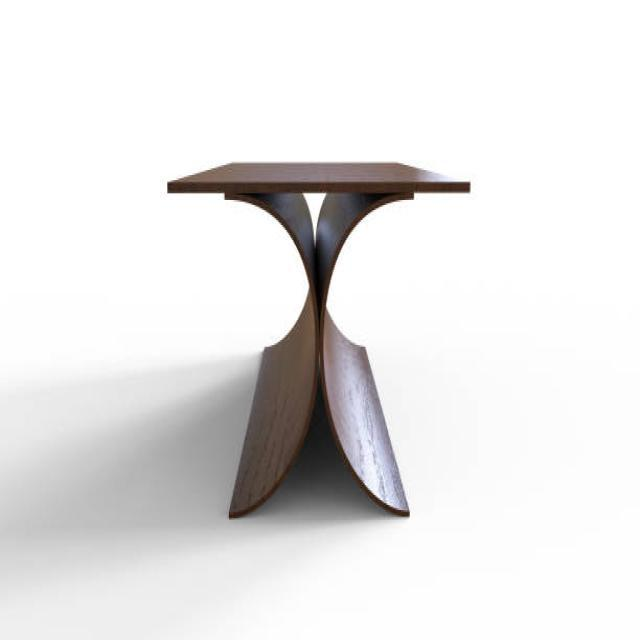table: (166, 158, 471, 520)
